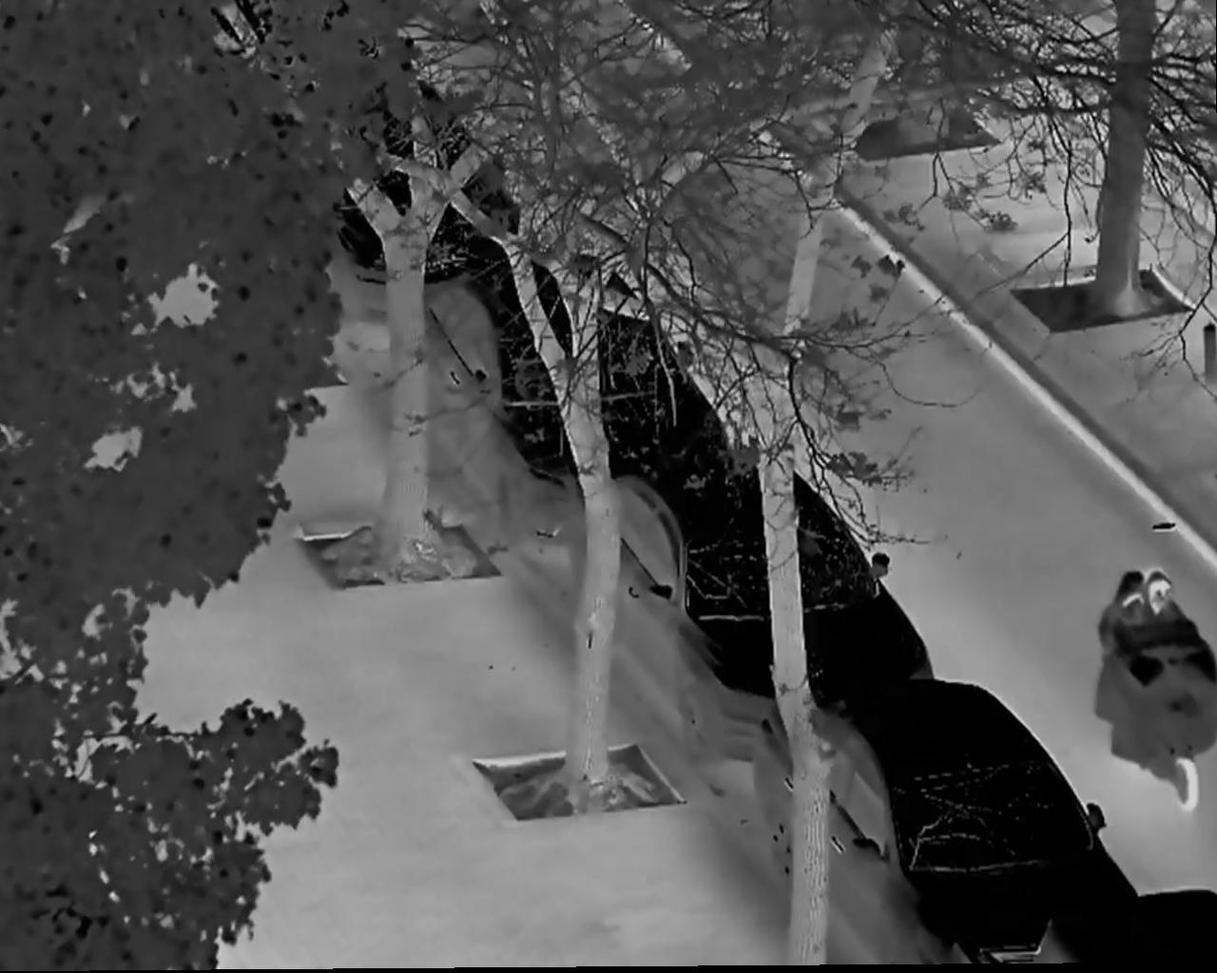person: (1111, 565, 1200, 729)
